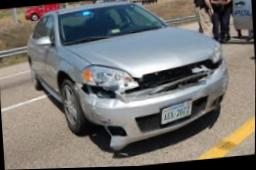Bonnet: (123, 45, 223, 95)
Bumper: (72, 59, 230, 150)
